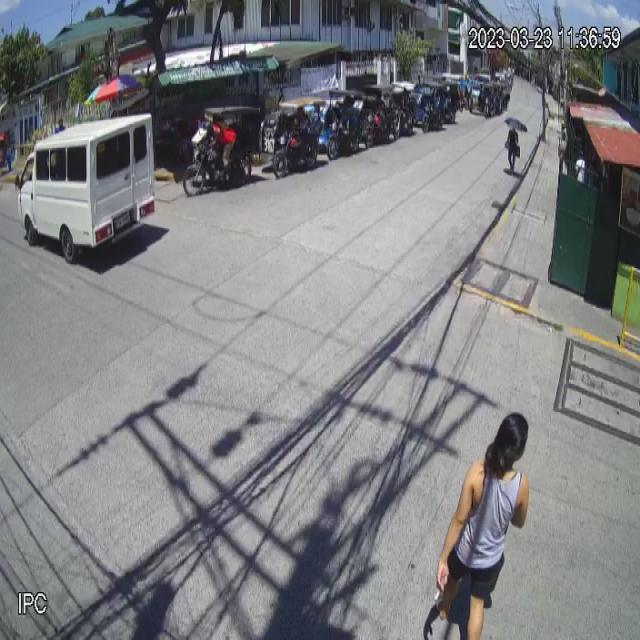Van: (15, 113, 156, 264)
